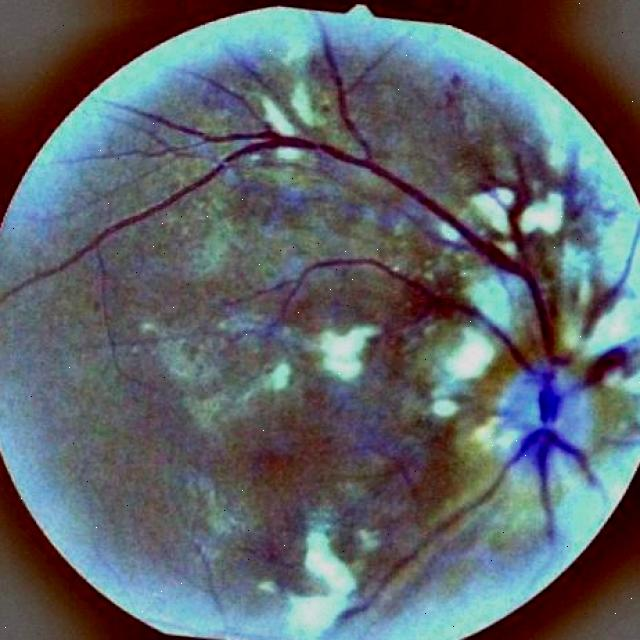Macula: (241, 431, 306, 483)
Nerves: (11, 33, 597, 544), (582, 222, 640, 337), (576, 346, 626, 388)
Optic Disk: (499, 364, 587, 479)
